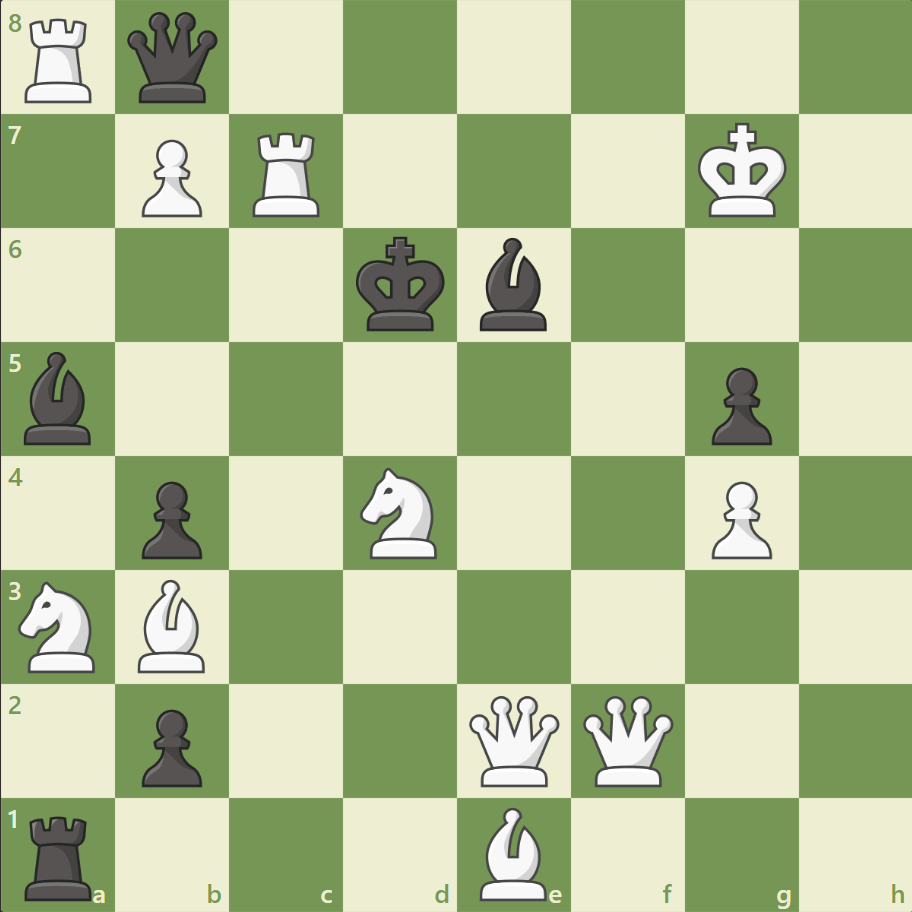B: (471, 801, 555, 904), (131, 574, 215, 676)
K: (692, 117, 792, 225)
N: (351, 461, 449, 564), (11, 575, 108, 677)
P: (133, 132, 208, 223), (701, 473, 776, 564)
Q: (464, 690, 563, 789), (578, 690, 677, 789)
R: (19, 12, 102, 109), (246, 125, 329, 222)
b: (471, 233, 555, 336), (17, 347, 101, 449)
k: (351, 231, 451, 339)
p: (701, 359, 776, 450), (133, 473, 208, 564), (133, 700, 208, 791)
q: (124, 9, 223, 108)
r: (19, 806, 102, 904)
